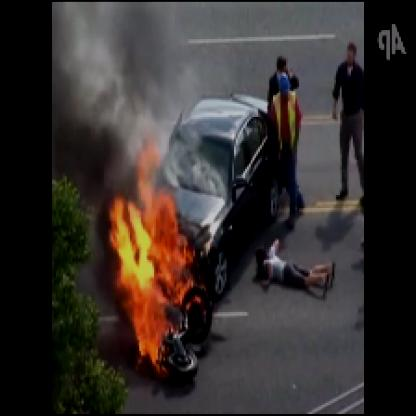Fire: (110, 139, 214, 381)
Smoke: (54, 2, 180, 182)
